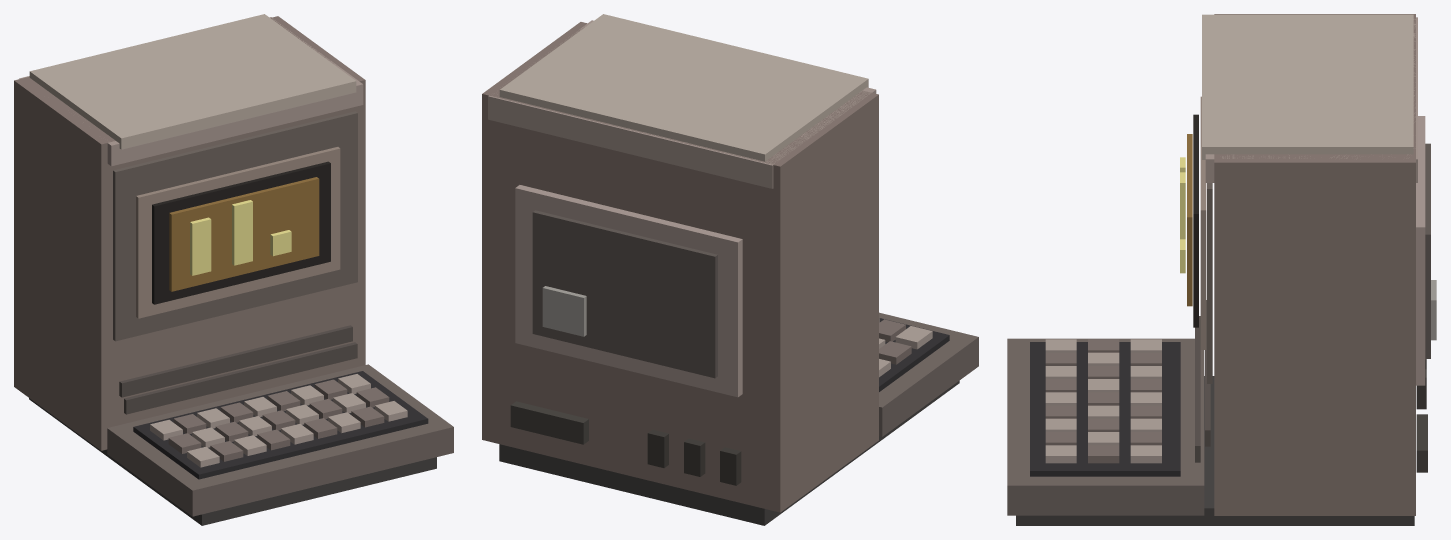
The model's file is CMU3DIdentityCRTTerminal.glb.
3 views of the same model, side by side, from view 1: azimuth 30°, elevation 25°; view 2: azimuth 150°, elevation 25°; view 3: azimuth 270°, elevation 25° (orthographic). The views are drawn at different scales.
Visible parts, largest first — view 1: terminal main shell, top cap highlight, monitor front bezel, keyboard base, CRT display, lower CRT face slope (×2), monitor inner raised rim, screen black surround, dark keyboard tray, upper monitor cap, terminal foot, pale identity chart (×2); view 2: terminal main shell, top cap highlight, rear service hatch, rear service hatch border, upper monitor cap, terminal foot, keyboard base, rear lower vent (×3), rear connector recess, rear pale service label, dark keyboard tray, separate keyboard key; view 3: terminal main shell, top cap highlight, keyboard base, dark keyboard tray, terminal foot, rear service hatch border, separate keyboard key (×3), monitor inner raised rim, lower CRT face slope (×2), rear service hatch, screen black surround, monitor front bezel (+3 smaller).
Part boxes in pixels (x1,y1,x2,y2): terminal main shell: (14,16,365,450); top cap highlight: (29,14,356,149); monitor front bezel: (113,111,357,341); keyboard base: (107,364,453,516); CRT display: (169,177,319,291); lower CRT face slope (×2): (119,325,357,414); monitor inner raised rim: (136,147,340,318); screen black surround: (152,161,330,304); dark keyboard tray: (133,371,428,479); upper monitor cap: (19,17,363,166); terminal foot: (29,398,436,525); pale identity chart (×2): (190,200,252,275); terminal main shell: (482,22,878,512); top cap highlight: (499,14,868,161); rear service hatch: (532,210,717,378); rear service hatch border: (515,185,742,397); upper monitor cap: (488,20,876,188); terminal foot: (499,380,959,525); keyboard base: (879,312,978,436); rear lower vent (×3): (647,429,741,485); rear connector recess: (510,401,588,444); rear pale service label: (542,286,586,336); dark keyboard tray: (879,318,949,391); separate keyboard key: (895,326,932,349); terminal main shell: (1214,14,1415,515); top cap highlight: (1202,14,1413,159); keyboard base: (1007,338,1204,515); dark keyboard tray: (1030,342,1180,476); terminal foot: (1016,376,1414,525); rear service hatch border: (1416,116,1425,385); separate keyboard key (×3): (1045,445,1161,463); monitor inner raised rim: (1200,96,1206,349); lower CRT face slope (×2): (1195,300,1210,462); rear service hatch: (1425,143,1430,358); screen black surround: (1193,114,1198,327); monitor front bezel: (1207,183,1212,383).
Bounding box in the file's own units: 0.562 × 0.668 × 0.686.
